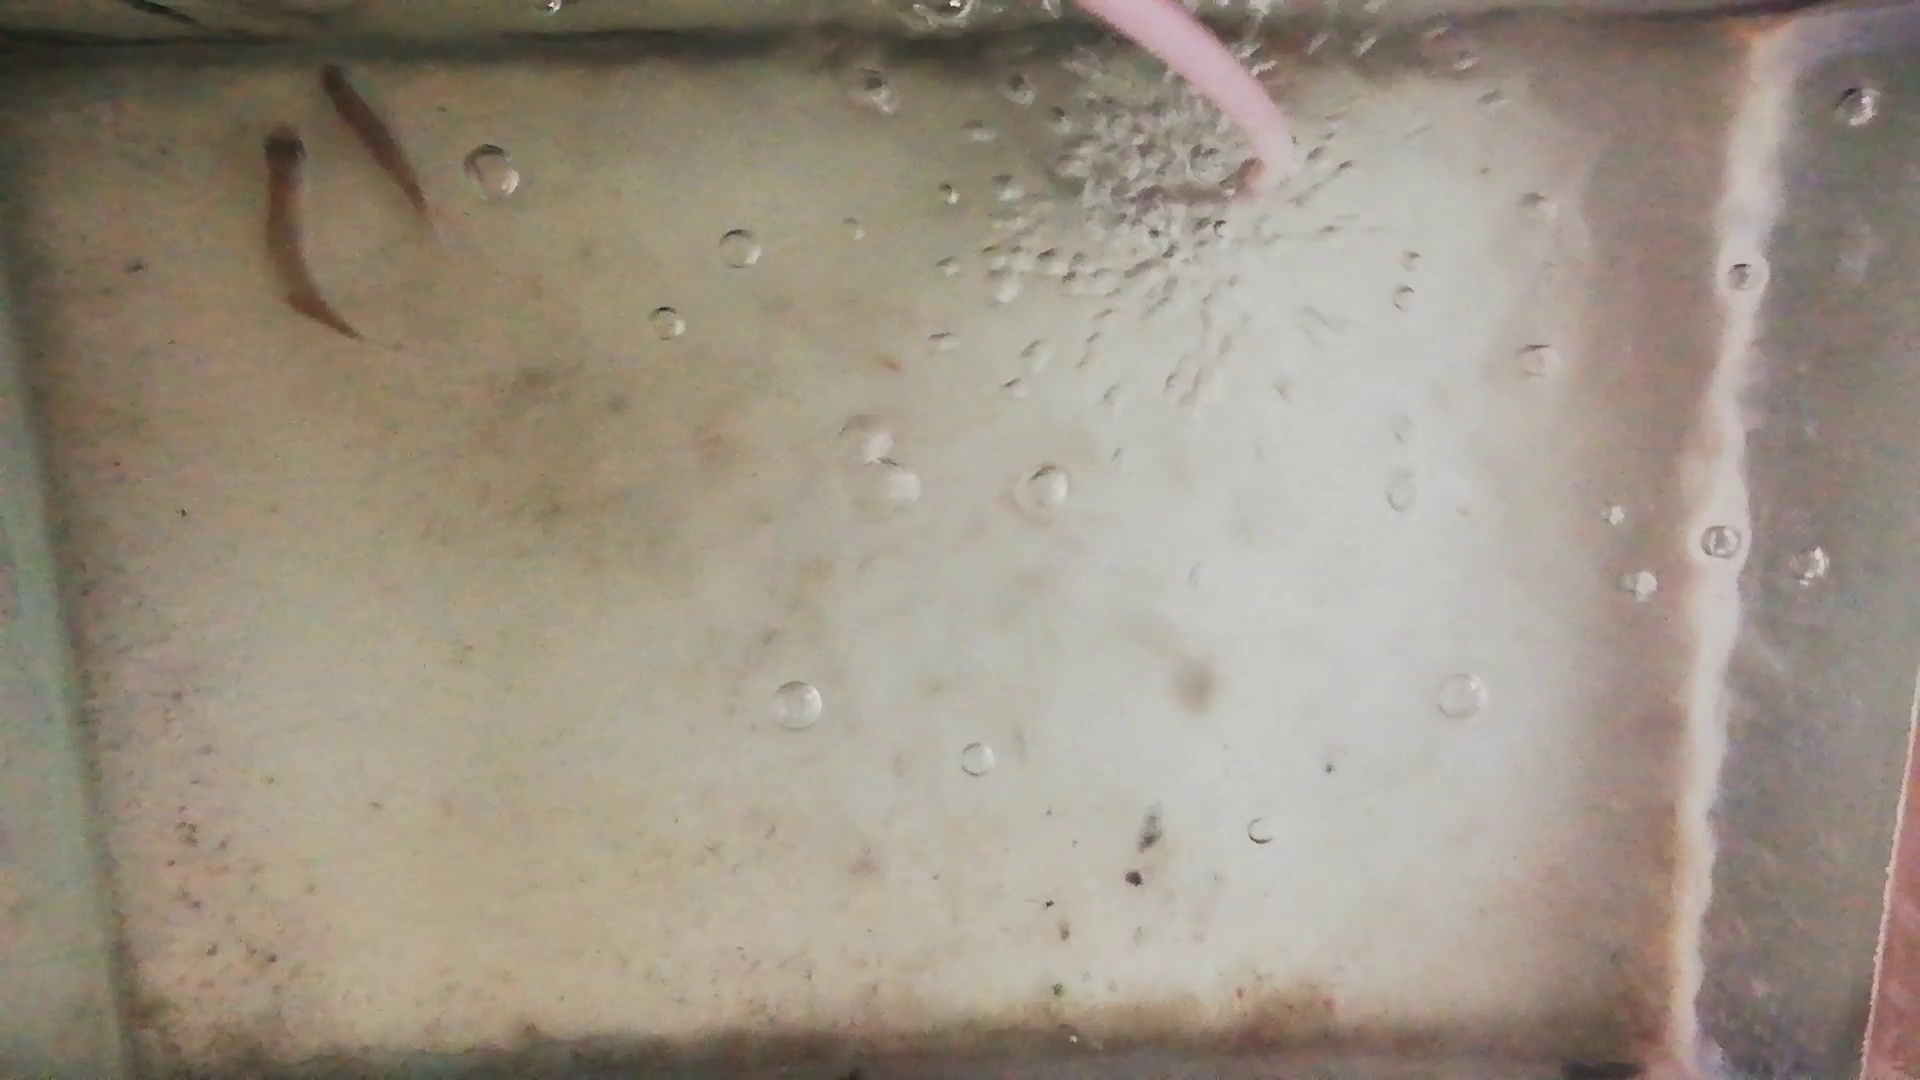fish: (260, 121, 363, 345), (316, 55, 427, 208)
